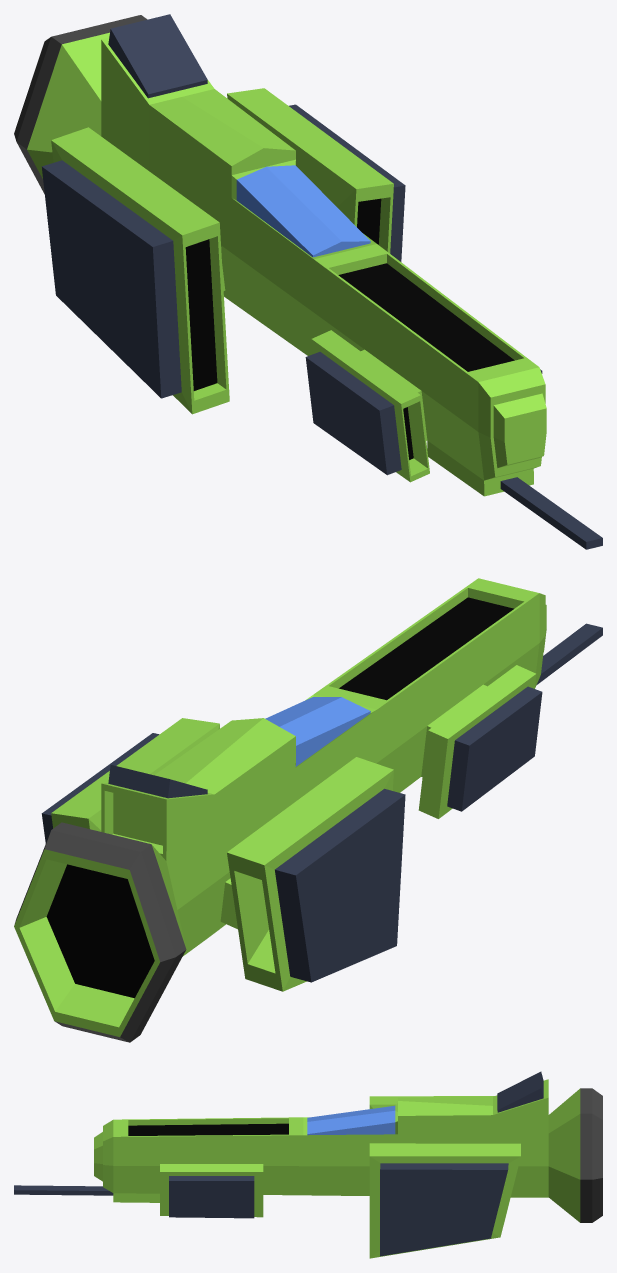
The model's file is StarryWanderer.glb.
3 views of the same model, one above another, from view 1: azimuth 30°, elevation 25°; view 2: azimuth 150°, elevation 25°; view 3: azimuth 270°, elevation 25° (orthographic). The views are drawn at different scales.
Visible parts, largest first — view 1: StarryWanderer; view 2: StarryWanderer; view 3: StarryWanderer.
Boxes of the visible parts, bbox=[...] form: StarryWanderer: bbox=[14, 14, 602, 549]; StarryWanderer: bbox=[14, 578, 602, 1042]; StarryWanderer: bbox=[14, 1071, 602, 1258].
Size of the model in its own units: 9.91 by 9.68 by 34.08.
1 material, 1 textured.
